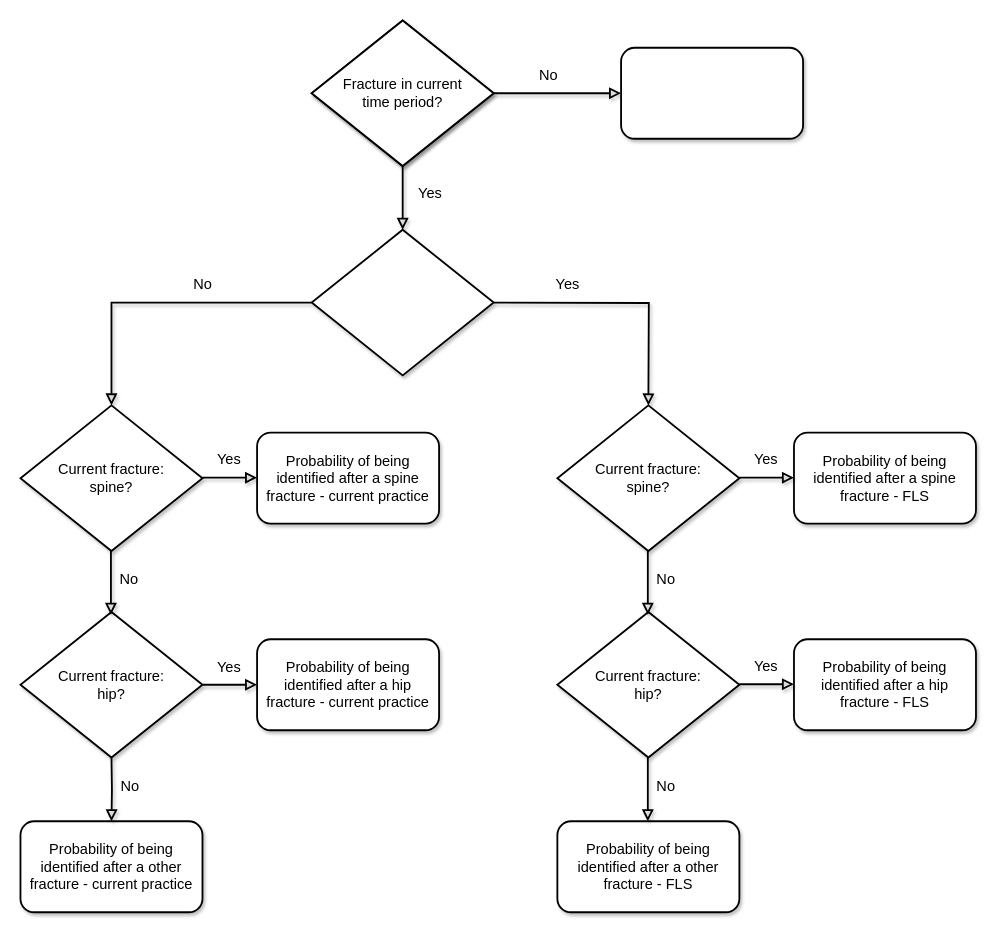
Image size: 997x935. Some labels were removed from this diagram. The centre of each missing label's shape, as x and y in pixels:
FLS?: (x=403, y=303)
Remain as in previous cycle: (x=712, y=94)
